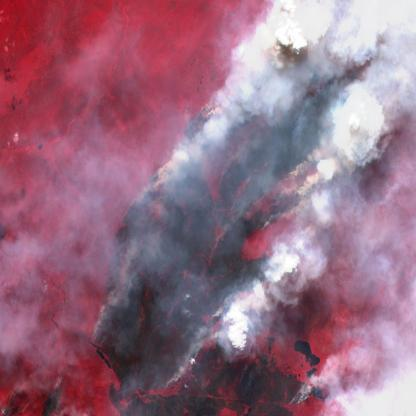fire: (90, 40, 380, 416), (0, 375, 67, 416)
